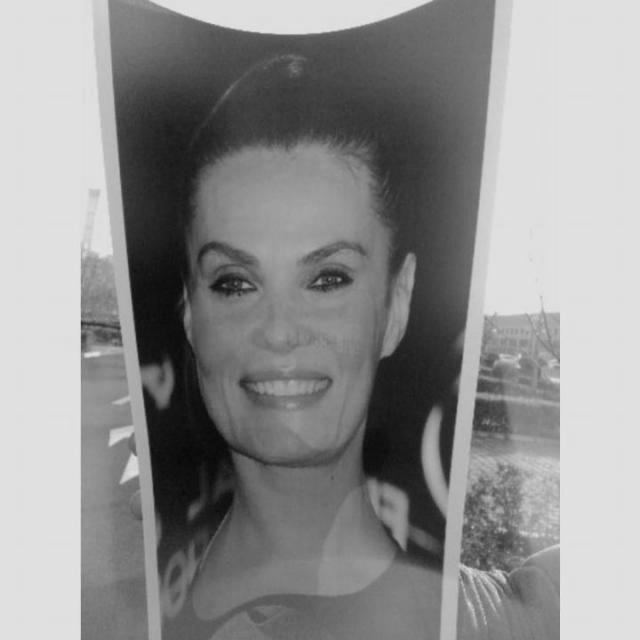fake: (87, 0, 520, 638)
